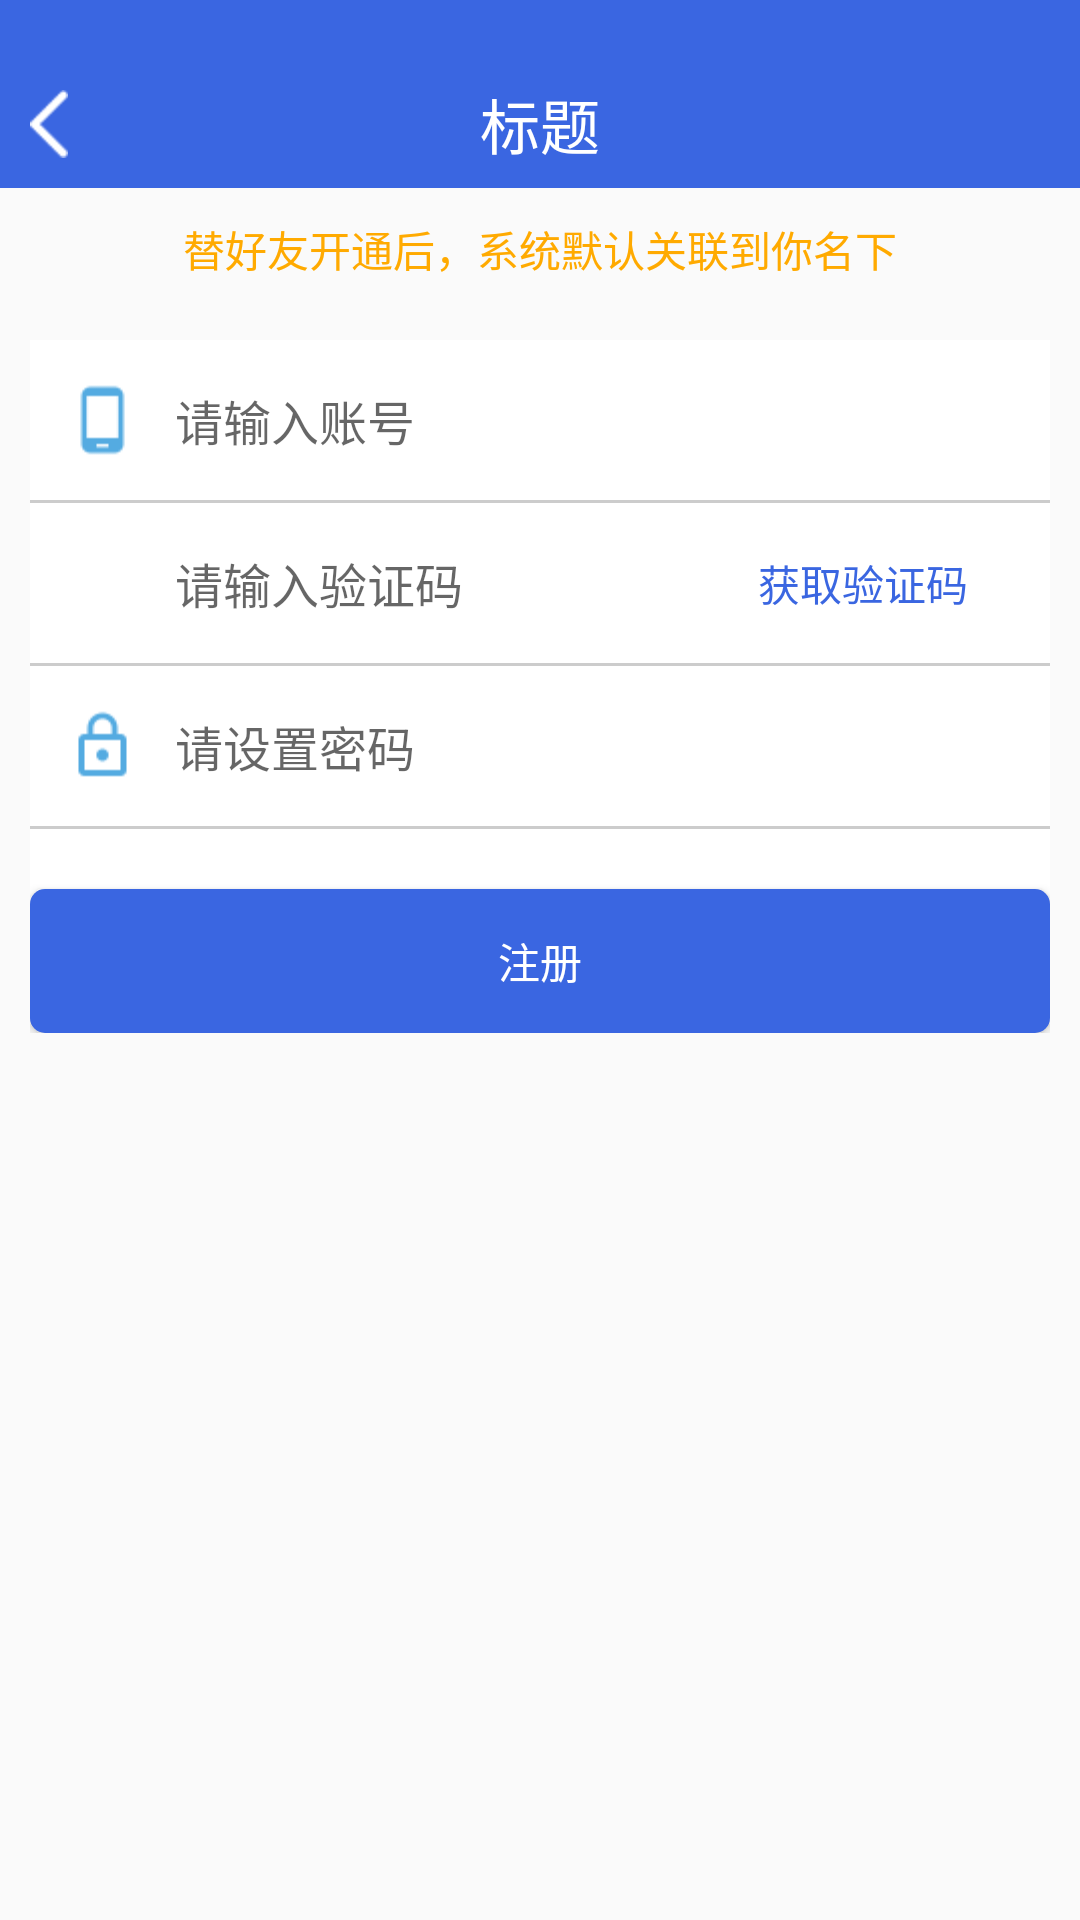

Icons on this 1080 x 1920 Android screen, each with the point to tap as (x=x, y=y):
chevron left: (x=49, y=124)
lock: (x=102, y=744)
phone android: (x=102, y=420)
